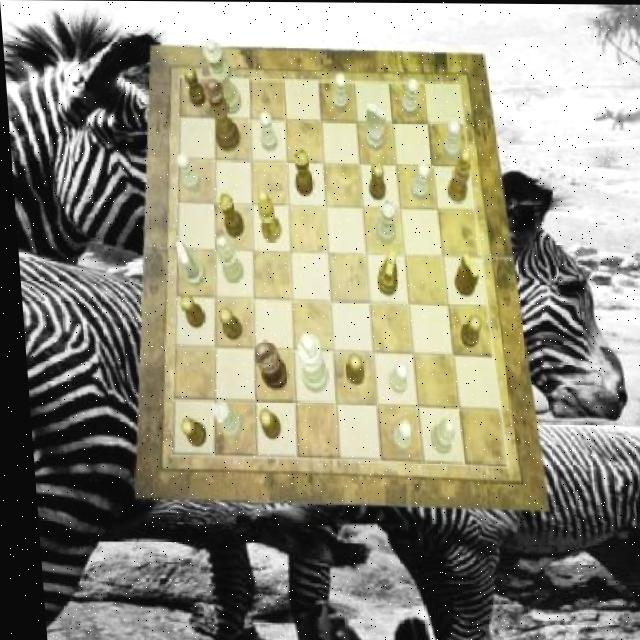bishop: (441, 150, 468, 203), (253, 189, 279, 242)
black-bishop: (248, 342, 283, 389)
black-king: (448, 253, 475, 297), (372, 248, 396, 294)
black-knight: (182, 67, 205, 107), (175, 295, 201, 329), (454, 313, 479, 347), (214, 307, 238, 340), (174, 418, 200, 447), (365, 162, 384, 200), (252, 409, 275, 440), (340, 353, 359, 385)
black-pawn: (202, 79, 239, 152)
black-queen: (214, 192, 240, 238), (291, 148, 311, 195)
black-rook: (212, 237, 240, 283), (423, 418, 449, 452)
white-bishop: (291, 333, 324, 393)
white-king: (171, 241, 201, 287), (360, 102, 386, 151)
white-knight: (174, 153, 199, 192), (397, 78, 419, 116), (406, 164, 429, 200), (255, 112, 275, 153), (439, 120, 458, 160), (385, 419, 408, 450), (381, 362, 403, 394), (330, 73, 348, 111)
white-pawn: (202, 40, 239, 115)
white-queen: (206, 399, 236, 438), (370, 197, 394, 243)
